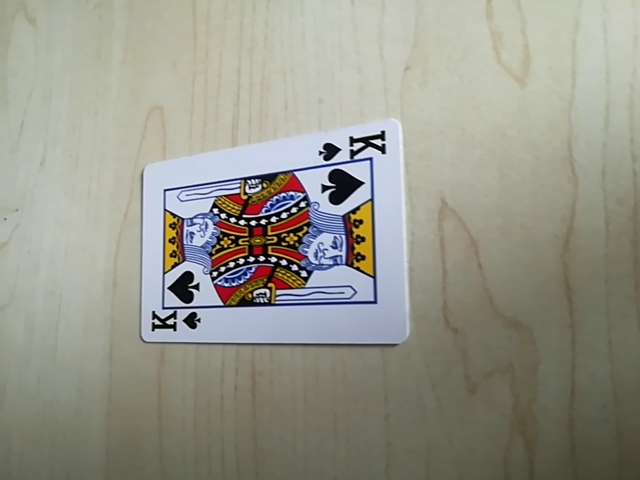ht k: (318, 129, 391, 163), (145, 305, 202, 339)
